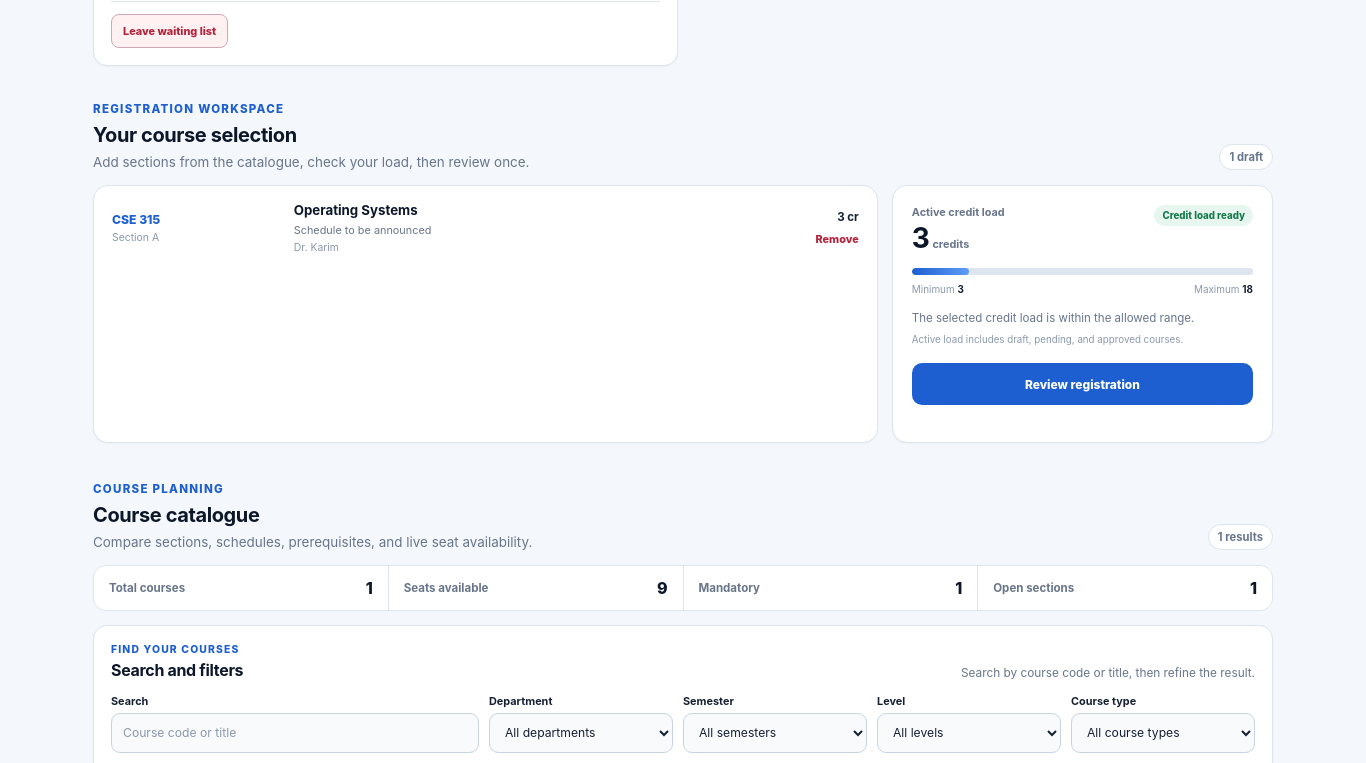
StudentDashboardPage › validates, reviews, and submits draft courses for advisor review
The image size is (1366, 763).
(page scrolled)
Click the button "Review registration": click(1082, 384) [912,363,1253,405]
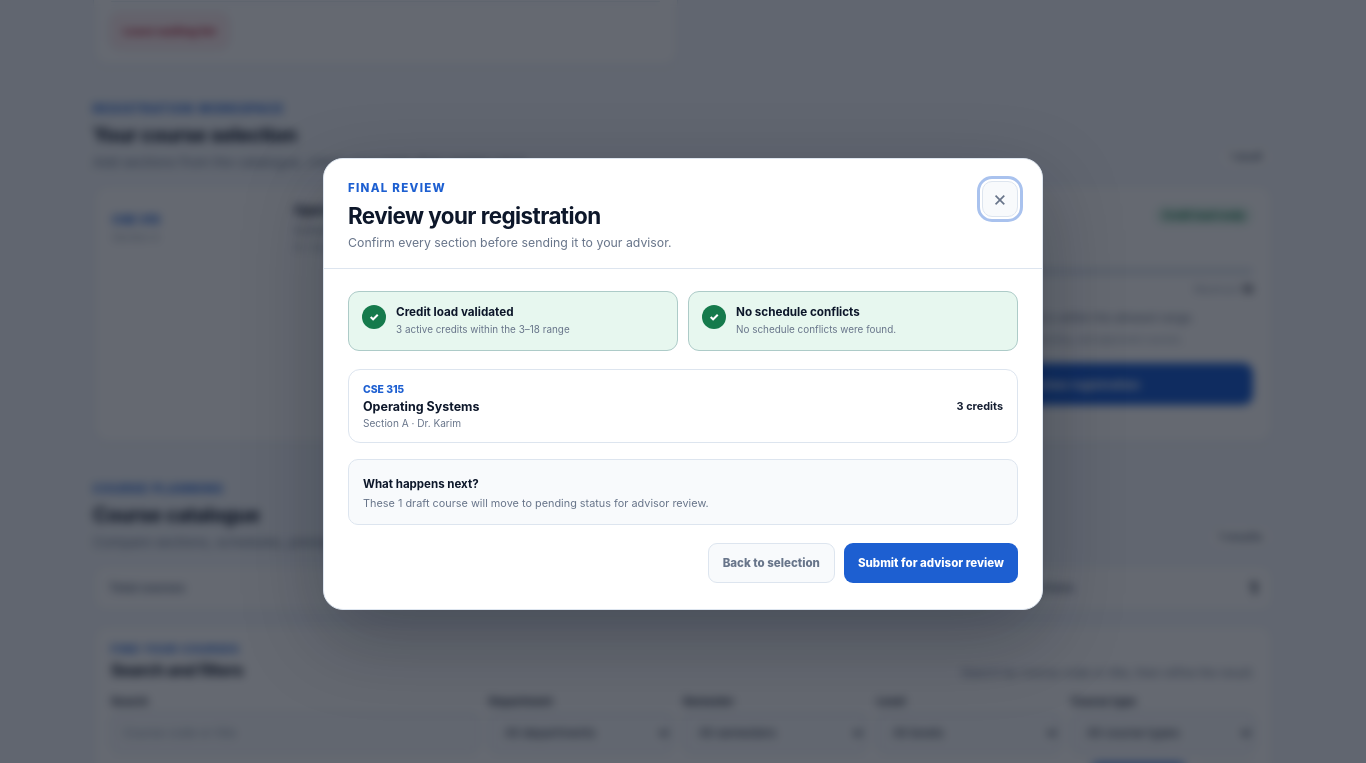
Check: the dialog "Review your registration" is shown, box [323,158,1043,610]
Click the button "Submit for advisor review": click(931, 563) [844,543,1018,583]
(page scrolled)
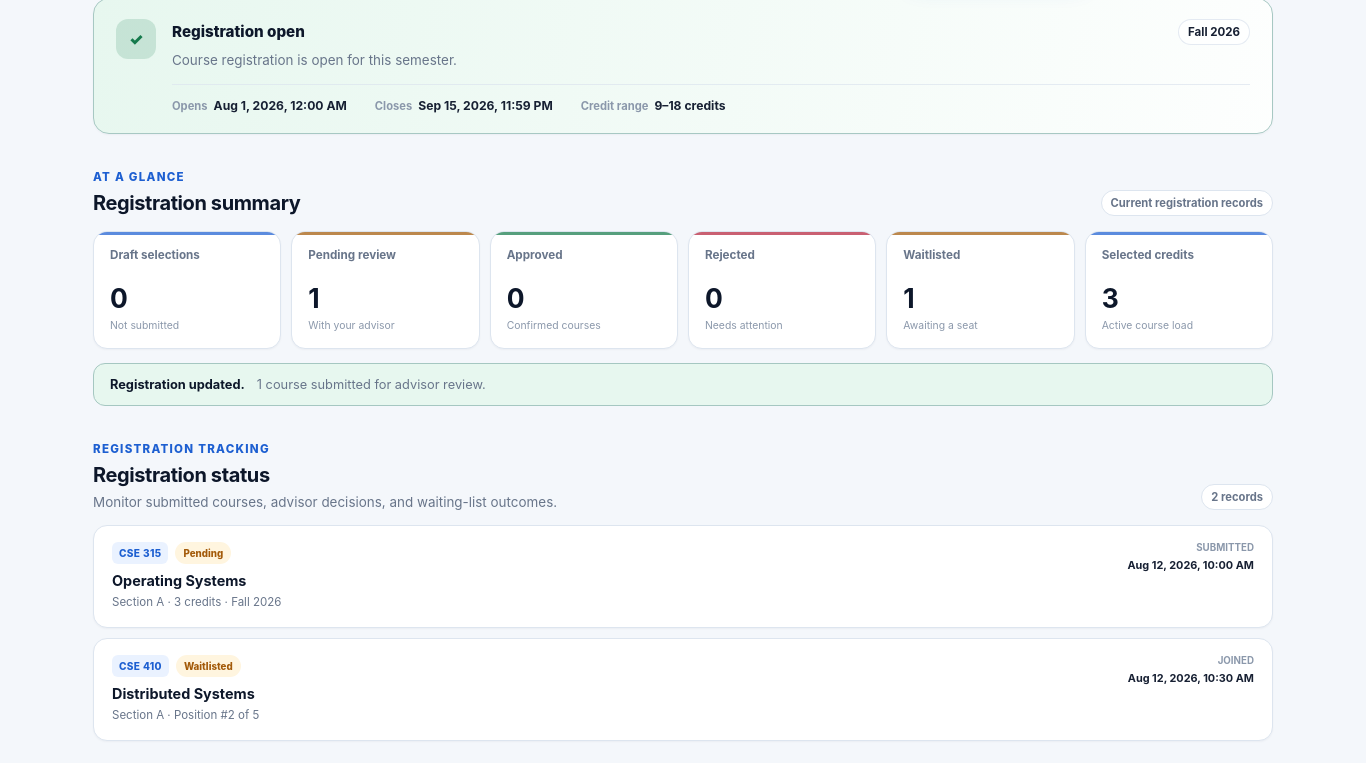
Check: the text "1 course submitted for advisor review." is shown, box [257,377,486,392]
